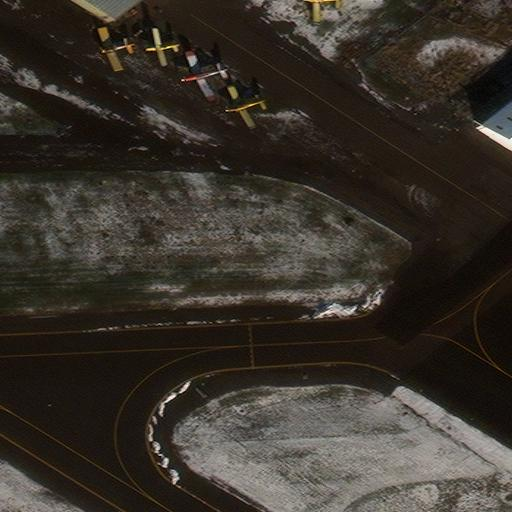Medium Civil Transport: (180, 52, 227, 101), (224, 87, 266, 129), (96, 28, 134, 71), (300, 0, 343, 25)
Small Civil Transport: (145, 28, 180, 66)
